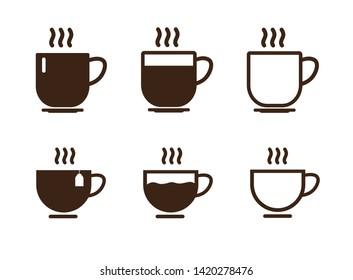cup: (31, 48, 109, 117), (139, 48, 214, 115), (245, 49, 321, 115), (34, 166, 107, 220), (249, 167, 322, 219), (141, 168, 214, 219)
